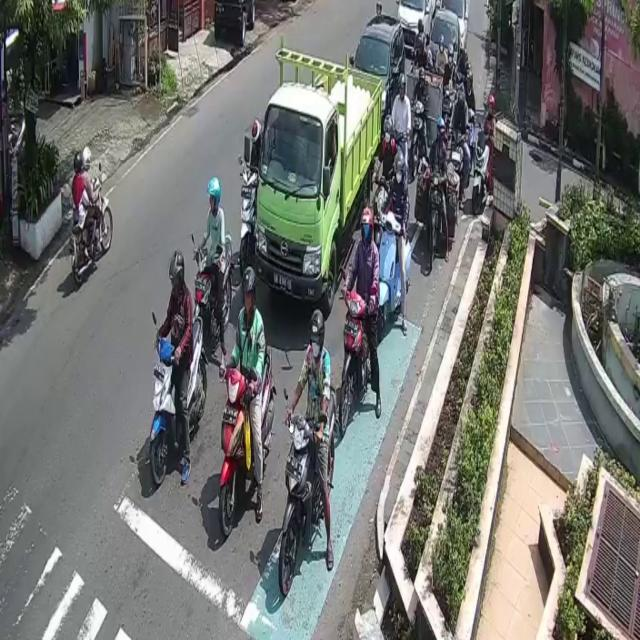bus: (279, 383, 339, 596), (148, 313, 208, 488), (221, 349, 276, 537), (337, 264, 376, 440), (372, 209, 413, 339), (69, 175, 115, 286), (190, 234, 233, 344), (422, 169, 450, 271), (239, 164, 259, 271), (410, 96, 430, 177), (474, 130, 492, 214), (451, 122, 468, 194)
motorcycle: (353, 16, 406, 124), (426, 11, 461, 98), (398, 0, 436, 55)
truck: (255, 36, 383, 318)
